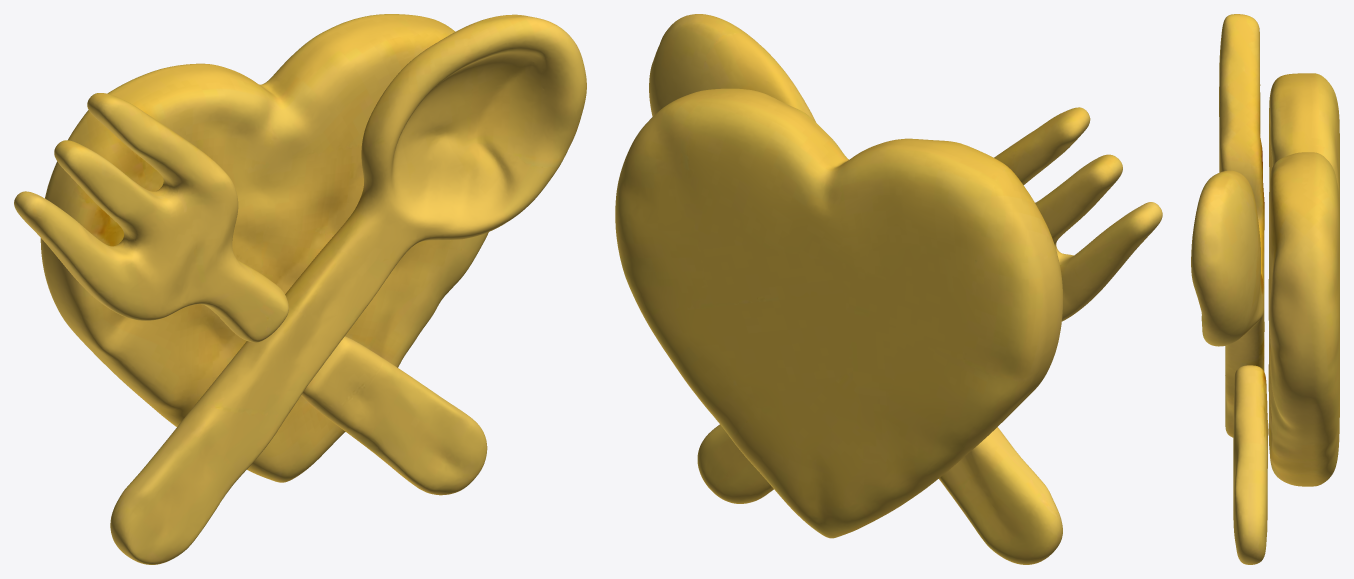
The model's file is intro-heart.glb.
3 renders of one model, left to right at view 1: azimuth 30°, elevation 25°; view 2: azimuth 150°, elevation 25°; view 3: azimuth 270°, elevation 25°, orthographic. The views are drawn at different scales.
Visible parts, largest first — view 1: Mesh_0; view 2: Mesh_0; view 3: Mesh_0.
Part boxes in pixels (x1,y1,x2,y2): Mesh_0: (14,14,586,564); Mesh_0: (615,14,1162,564); Mesh_0: (1191,14,1339,564).
Size of the model in its own units: 0.1406 by 0.12 by 0.0399.
Materials: 1 (1 with a texture image).
